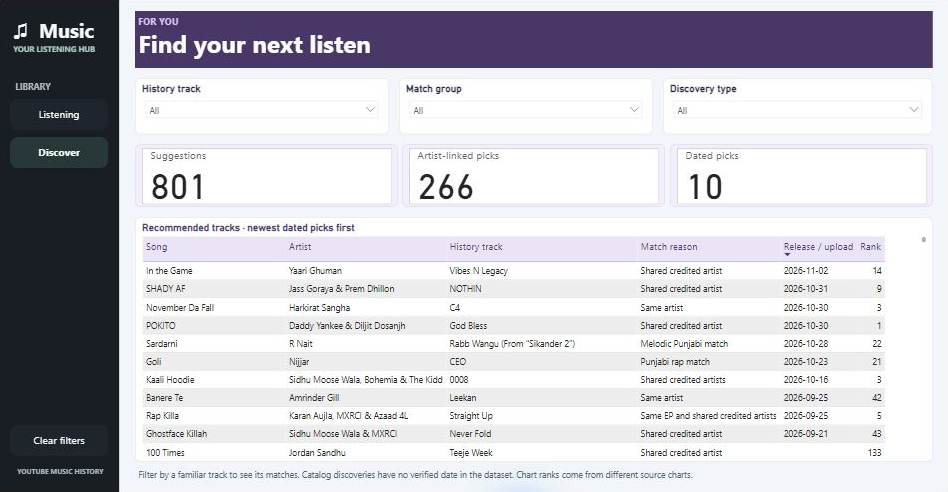

What the dashboard file says about the page in this screenshot:
{"tool":"powerbi","page":{"name":"Discover music","canvas":[1464,760],"ordinal":1},"visuals":[{"type":"textbox","box":[0,0,184,760],"z":0},{"type":"textbox","box":[208,17,1232,88],"z":194},{"type":"textbox","box":[15,20,154,78],"z":215},{"type":"textbox","box":[19,120,146,28],"z":1219},{"type":"slicer","title":"History track","fields":{"Values":["Recommendations.From your history"]},"box":[208,120,392,87],"z":1224},{"type":"slicer","title":"Match group","fields":{"Values":["Recommendations.Match group"]},"box":[616,120,392,87],"z":1632},{"type":"slicer","title":"Discovery type","fields":{"Values":["Recommendations.Discovery type"]},"box":[1024,120,416,87],"z":2040},{"type":"cardVisual","fields":{"Data":["Recommendations.Suggestions"]},"box":[208,222,406,97],"z":2244},{"type":"cardVisual","fields":{"Data":["Recommendations.Artist-linked picks"]},"box":[621,222,406,97],"z":2657},{"type":"cardVisual","fields":{"Data":["Recommendations.Dated picks"]},"box":[1034,222,406,97],"z":3070},{"type":"tableEx","title":"Recommended tracks · newest dated picks first","fields":{"Values":["Recommendations.Suggested song","Recommendations.Suggested artist","Recommendations.From your history","Recommendations.Why it matches","Recommendations.Release or upload","Recommendations.Chart rank"]},"box":[208,335,1232,378],"z":3374},{"type":"textbox","box":[21,713,144,30],"z":7151},{"type":"textbox","box":[208,720,1232,34],"z":7224},{"type":"actionButton","box":[16,153,152,48],"z":9153},{"type":"actionButton","box":[16,211,152,48],"z":9211},{"type":"actionButton","box":[16,656,152,48],"z":9656}]}

Visuals, with their boxes on the page's 1464x760 design canvas (x1, y1, x2, y2). These are canvas units, not pixel positions in the 948x492 screenshot, which may show the page scaled, cropped or inside an application window:
textbox: bbox(0, 0, 184, 760)
textbox: bbox(208, 17, 1440, 105)
textbox: bbox(15, 20, 169, 98)
textbox: bbox(19, 120, 165, 148)
"History track" slicer: bbox(208, 120, 600, 207)
"Match group" slicer: bbox(616, 120, 1008, 207)
"Discovery type" slicer: bbox(1024, 120, 1440, 207)
cardVisual - Recommendations.Suggestions: bbox(208, 222, 614, 319)
cardVisual - Recommendations.Artist-linked picks: bbox(621, 222, 1027, 319)
cardVisual - Recommendations.Dated picks: bbox(1034, 222, 1440, 319)
"Recommended tracks · newest dated picks first" tableEx: bbox(208, 335, 1440, 713)
textbox: bbox(21, 713, 165, 743)
textbox: bbox(208, 720, 1440, 754)
actionButton: bbox(16, 153, 168, 201)
actionButton: bbox(16, 211, 168, 259)
actionButton: bbox(16, 656, 168, 704)
